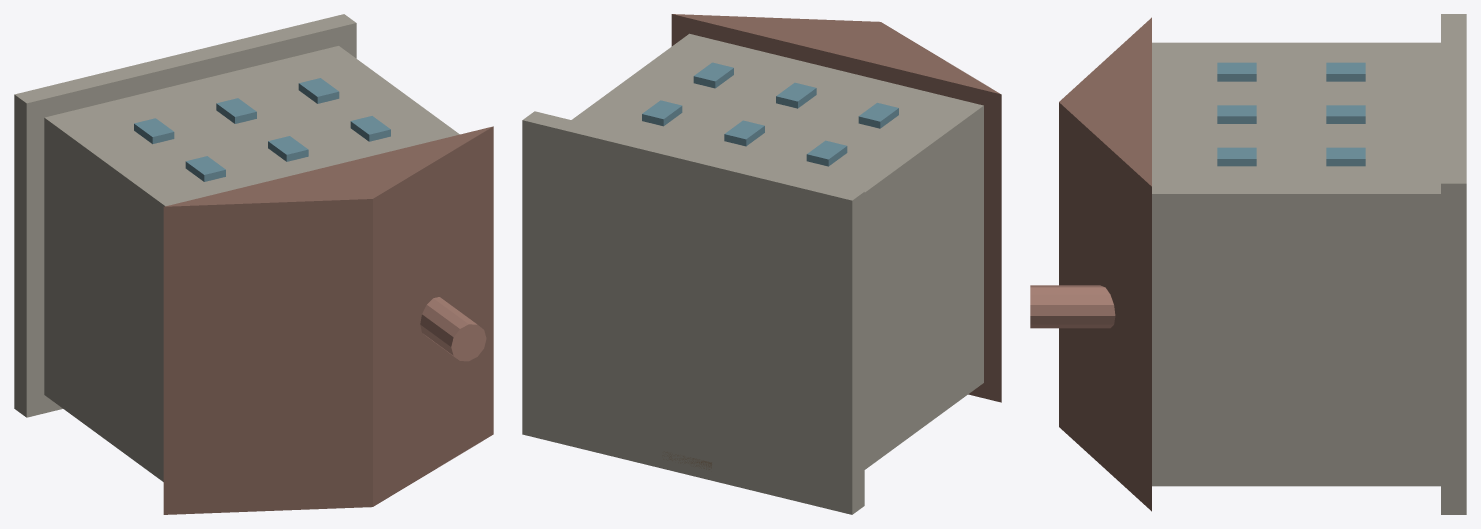
The model's file is AGE_III_residential.glb.
The picture shows the model from 3 angles, left to right: view 1: azimuth 30°, elevation 25°; view 2: azimuth 150°, elevation 25°; view 3: azimuth 270°, elevation 25°; orthographic projection. The views are drawn at different scales.
Parts seen in each view (by area): view 1: world; view 2: world; view 3: world.
Part boxes in pixels (<box>): world: <box>14,14,493,514</box>; world: <box>522,14,1001,514</box>; world: <box>1030,14,1466,514</box>.
Size of the model in its own units: 5.6 by 5.1 by 6.09.
